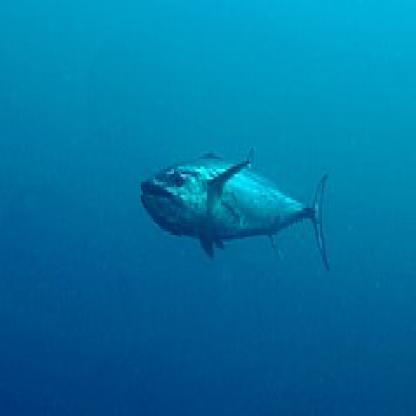Scombridae -Tunas-: (133, 142, 335, 277)
